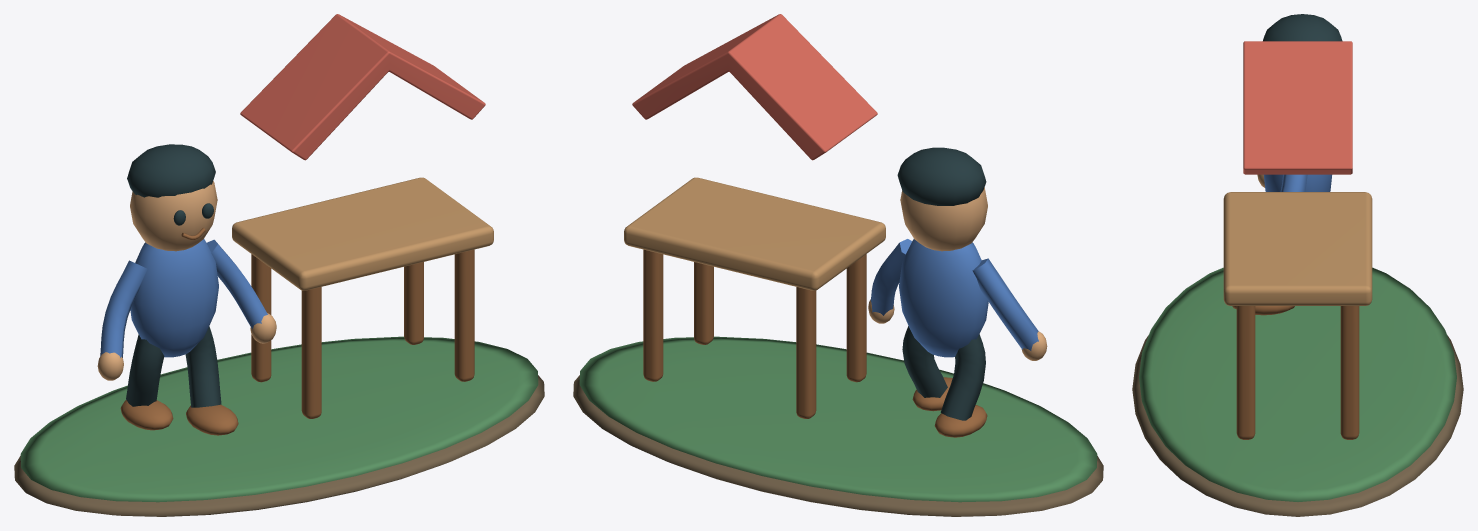
The model's file is standing-booth.glb.
3 renders of one model, left to right at view 1: azimuth 30°, elevation 25°; view 2: azimuth 150°, elevation 25°; view 3: azimuth 270°, elevation 25°, orthographic. The views are drawn at different scales.
Visible parts, largest first — view 1: standing-booth_surface_01, standing-booth_surface_06, standing-booth_surface_07, standing-booth_surface_05, standing-booth_surface_04, standing-booth_surface_00, standing-booth_surface_03, standing-booth_surface_02; view 2: standing-booth_surface_01, standing-booth_surface_06, standing-booth_surface_07, standing-booth_surface_05, standing-booth_surface_04, standing-booth_surface_00, standing-booth_surface_03, standing-booth_surface_02; view 3: standing-booth_surface_01, standing-booth_surface_06, standing-booth_surface_07, standing-booth_surface_00, standing-booth_surface_04, standing-booth_surface_03, standing-booth_surface_05.
Boxes of the visible parts, x1,y1,x2,y2 form: standing-booth_surface_01: (20, 336, 538, 502); standing-booth_surface_06: (232, 177, 493, 290); standing-booth_surface_07: (240, 14, 485, 160); standing-booth_surface_05: (100, 239, 267, 357); standing-booth_surface_04: (120, 228, 474, 435); standing-booth_surface_00: (14, 375, 544, 516); standing-booth_surface_03: (126, 144, 221, 407); standing-booth_surface_02: (97, 181, 276, 380); standing-booth_surface_01: (579, 336, 1097, 502); standing-booth_surface_06: (624, 177, 885, 290); standing-booth_surface_07: (632, 14, 877, 160); standing-booth_surface_05: (870, 239, 1038, 357); standing-booth_surface_04: (643, 249, 987, 437); standing-booth_surface_00: (573, 375, 1103, 516); standing-booth_surface_03: (897, 147, 986, 420); standing-booth_surface_02: (868, 187, 1047, 360); standing-booth_surface_01: (1139, 267, 1456, 501); standing-booth_surface_06: (1223, 192, 1372, 305); standing-booth_surface_07: (1243, 41, 1352, 174); standing-booth_surface_00: (1132, 335, 1463, 516); standing-booth_surface_04: (1232, 306, 1359, 439); standing-booth_surface_03: (1263, 14, 1342, 41); standing-booth_surface_05: (1264, 174, 1331, 191).
Size of the model in its own units: 4.56 by 3.37 by 2.5.
